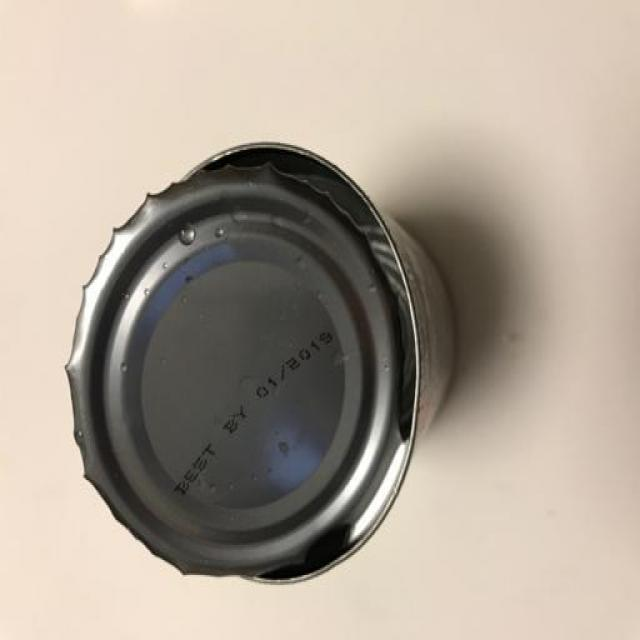metel: (62, 132, 468, 595)
